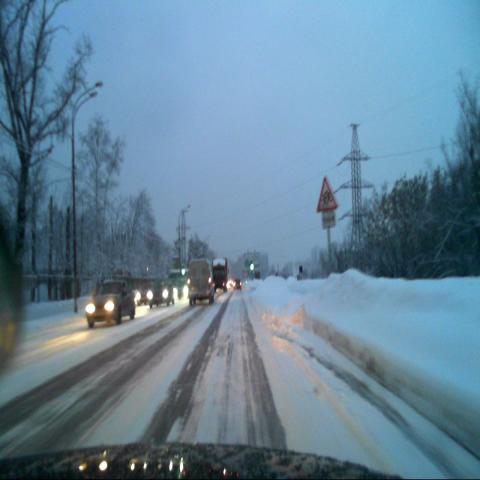8_2_1: (320, 211, 336, 227)
